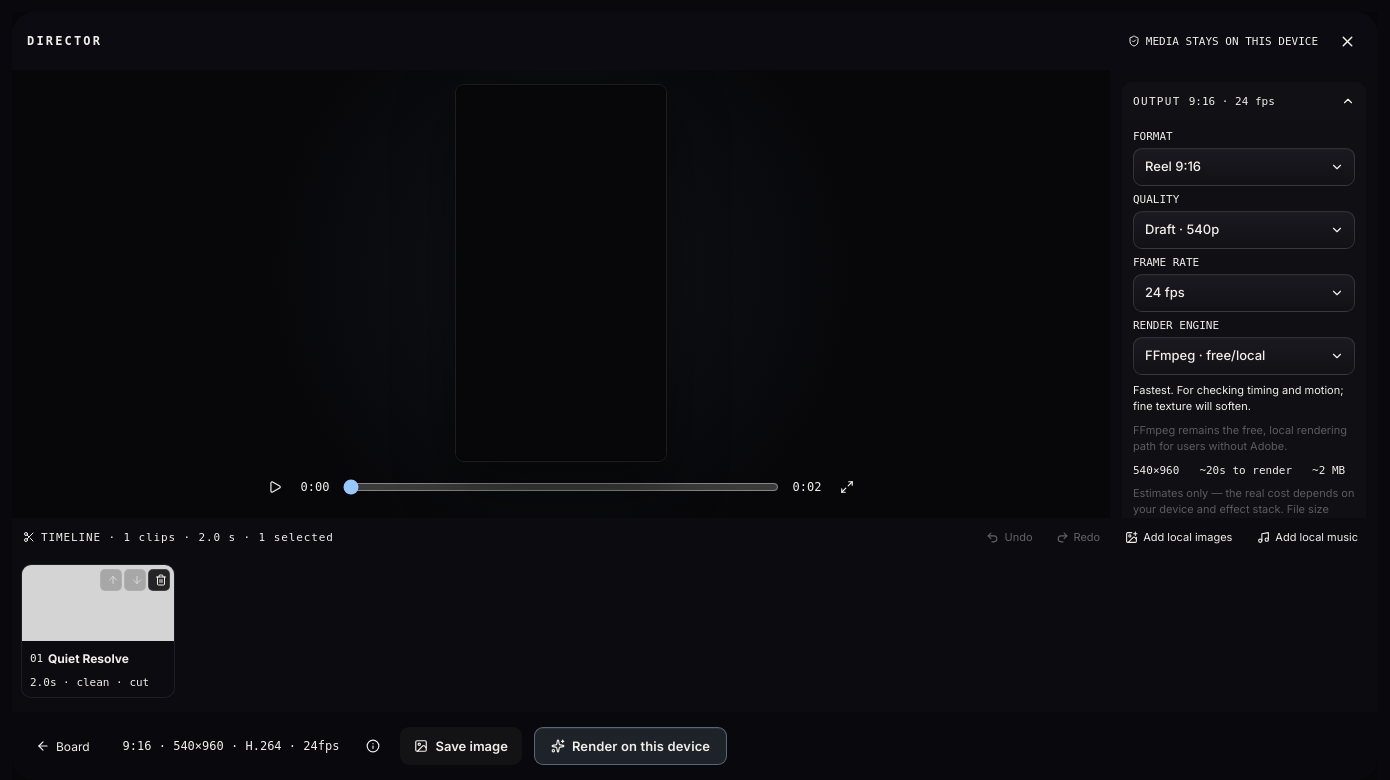
Scenario: Director Reel Studio render transactions › invalidates a completed download as soon as the visible edit changes
The width and height of the screenshot is (1390, 780).
Click the button "Render on this device".
click(631, 746)  # box [534,727,727,765]
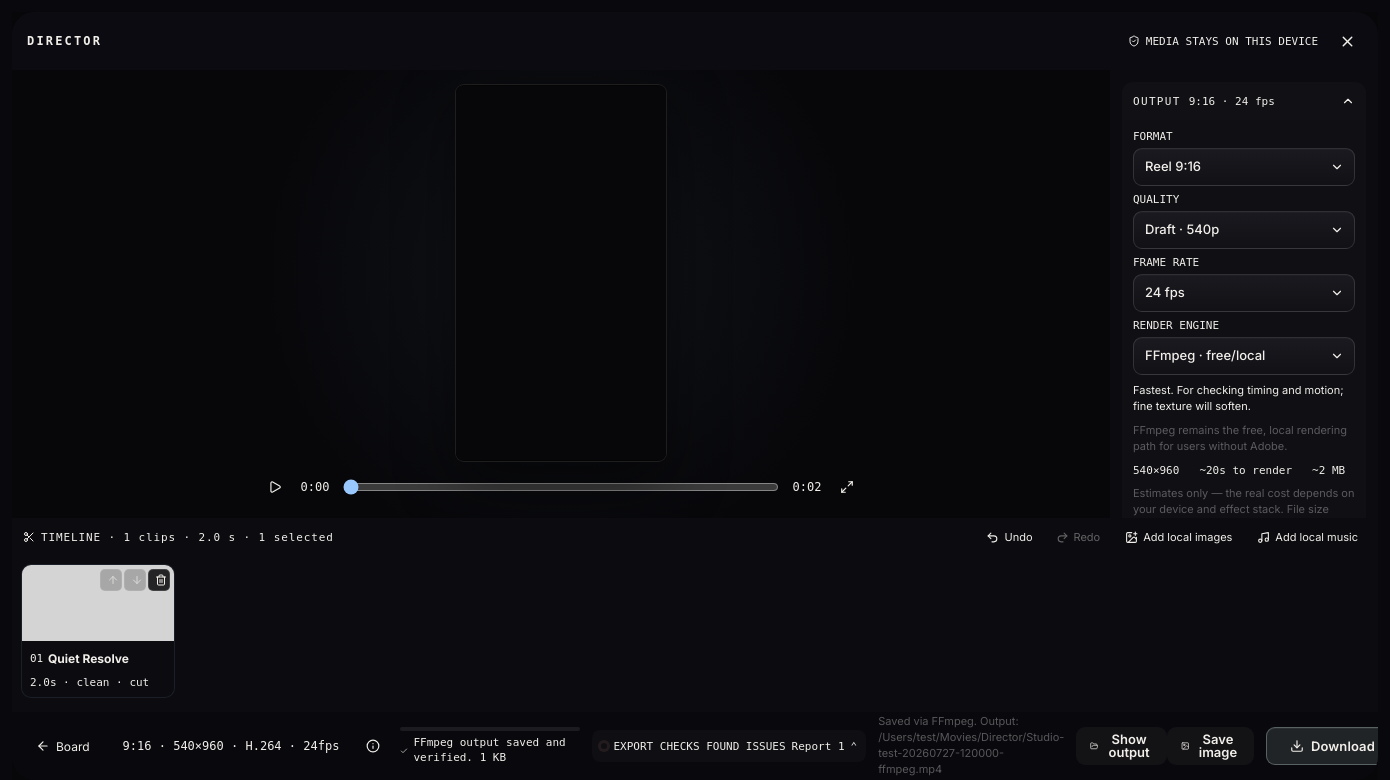
Now the link "Download copy" is shown, box [1266,727,1378,765]
Now the text "Export checks found issues" is shown, box [613,740,786,752]
Click the dropdown named "Quality".
click(1244, 230)  # box [1133,211,1355,249]
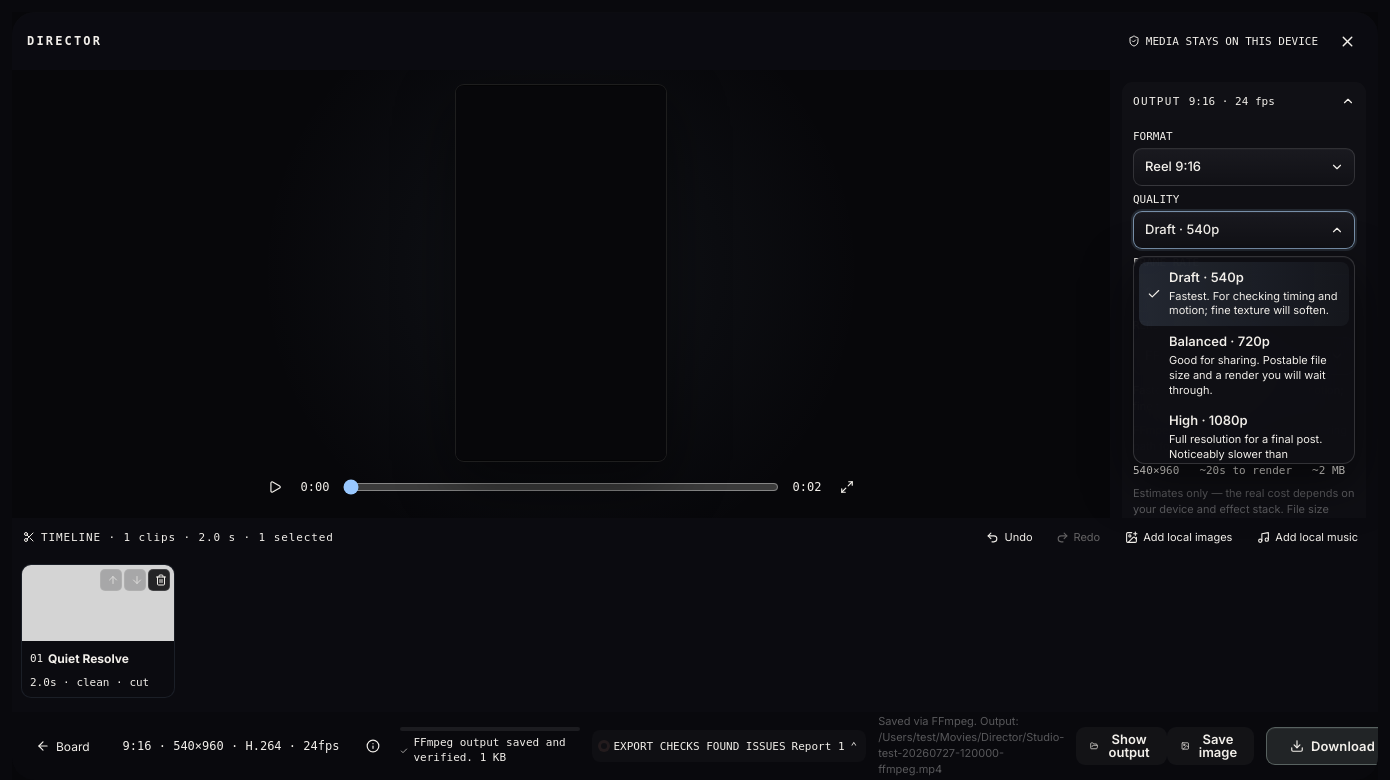
Click the option that starts with "Balanced · 720p".
click(1244, 366)  # box [1139,326,1349,405]
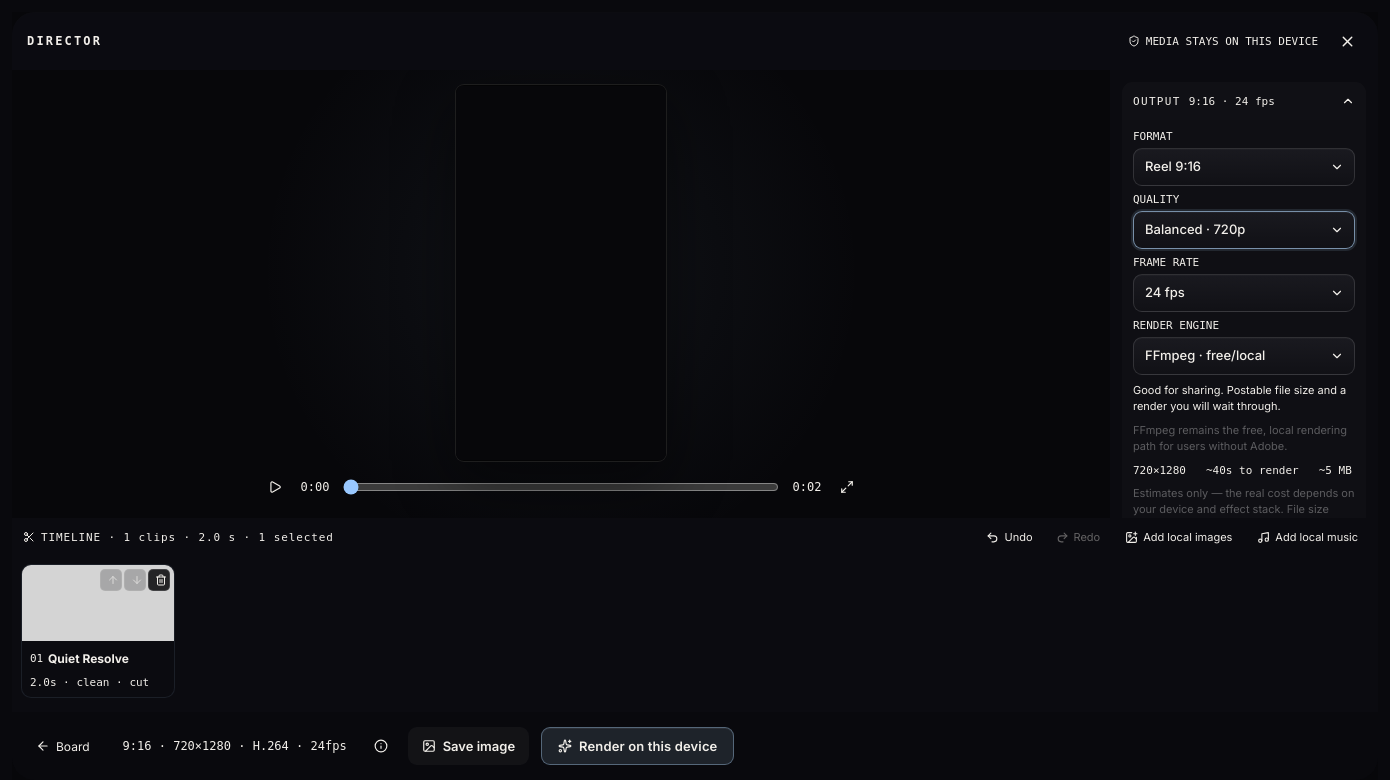
Now the link "Download copy" is gone
Now the heading "Export checks found issues" is gone
Now the button "Render on this device" is enabled, box [541,727,734,765]
